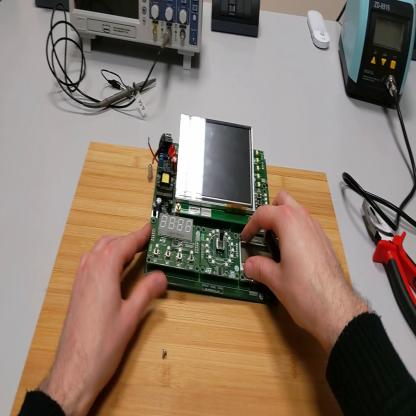hand: (57, 226, 167, 398), (242, 186, 345, 335)
low voltage board: (145, 114, 280, 305)
oscilloscope: (70, 2, 205, 71)
oscilloscope probe tip: (98, 80, 159, 109)
pliers: (365, 197, 416, 336)
screwdriver-: (264, 228, 281, 268)
socket: (36, 1, 68, 11)
welder station: (339, 2, 415, 108)
working area: (12, 143, 356, 416)
